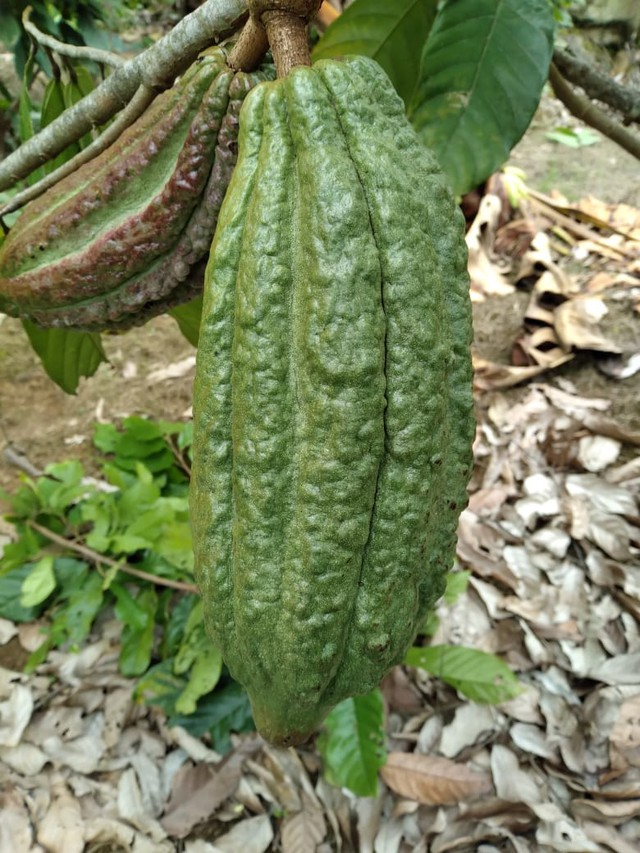Health: (175, 45, 489, 760)
